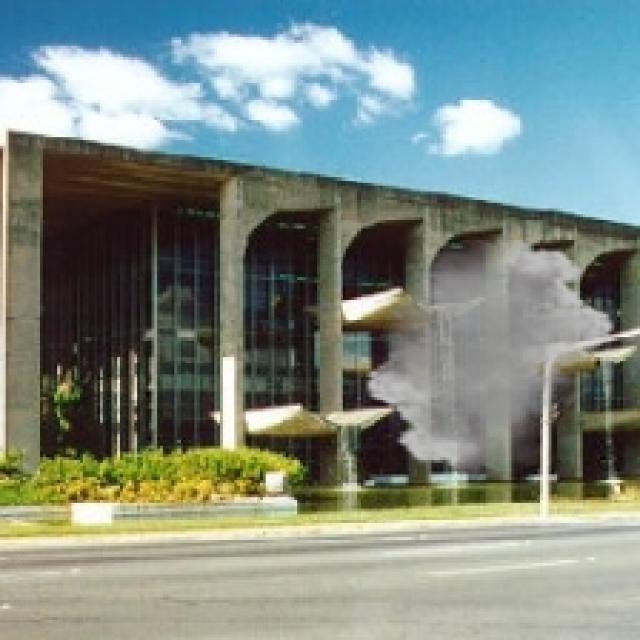Smoke: (362, 234, 618, 477)
